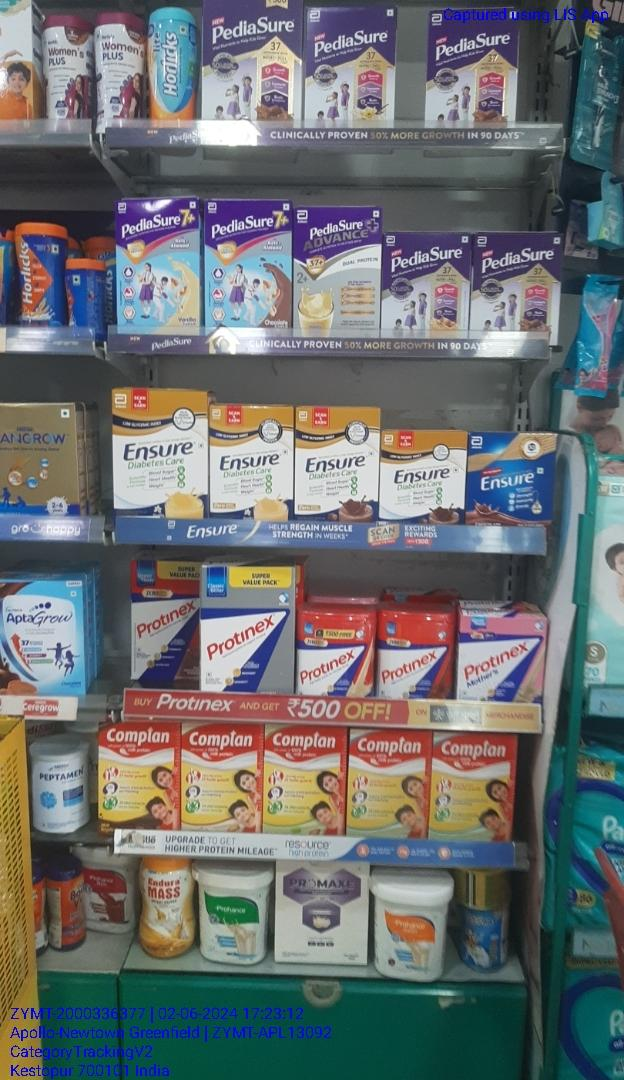HORLICKS_LITE_REGULAR_MALT_500_GM_JAR: (147, 6, 197, 122)
PEDIASURE_7_PLUS_CHOCOLATE_400_G_PACK: (206, 198, 293, 339)
PEDIASURE_CHOCOLATE_500_G_PACK: (203, 0, 302, 141), (424, 6, 517, 138)
PEDIASURE_VANILLA_500_G_PACK: (308, 6, 397, 137)
PROTINEX_CHOCOLATE_400_G_JAR: (383, 609, 451, 698)
PROTINEX_VANILLA_400_G_JAR: (298, 611, 375, 698)
